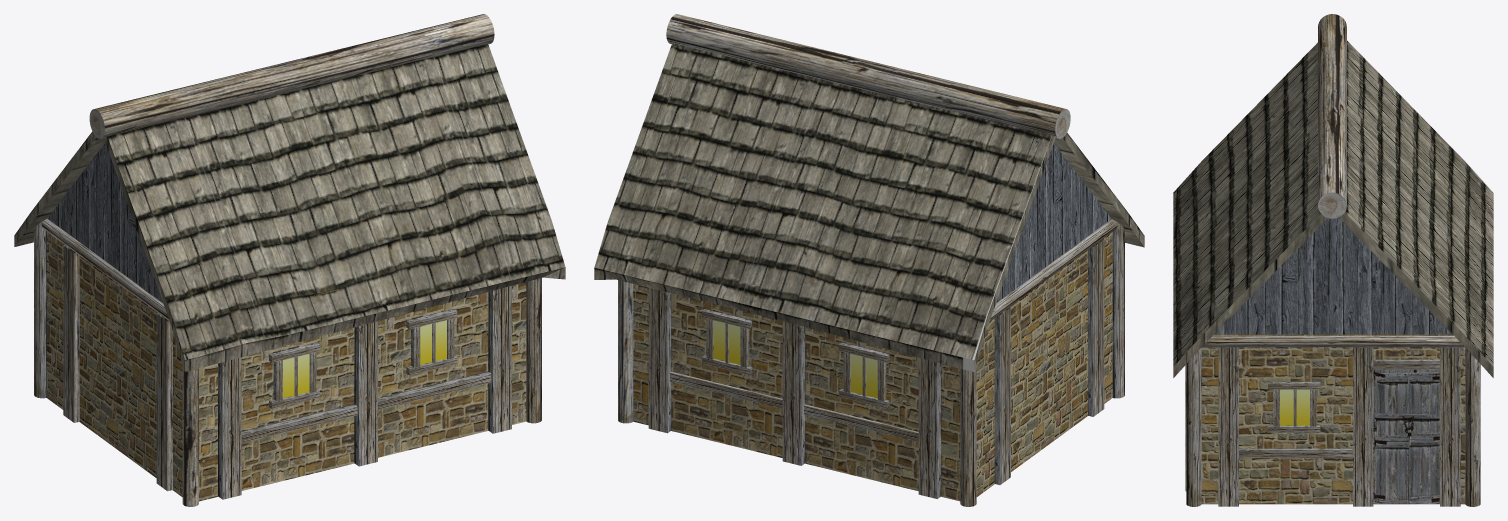
File: House1.obj
3 renders of one model, left to right at view 1: azimuth 30°, elevation 25°; view 2: azimuth 150°, elevation 25°; view 3: azimuth 270°, elevation 25°, orthographic. The views are drawn at different scales.
Visible parts, largest first — view 1: House; view 2: House; view 3: House.
Part boxes in pixels (<box>): House: <box>14,14,565,506</box>; House: <box>594,14,1144,506</box>; House: <box>1173,14,1493,506</box>.
Bounding box in the file's own units: 4.55 × 3.84 × 3.45.
Materials: 2 (2 with a texture image).
